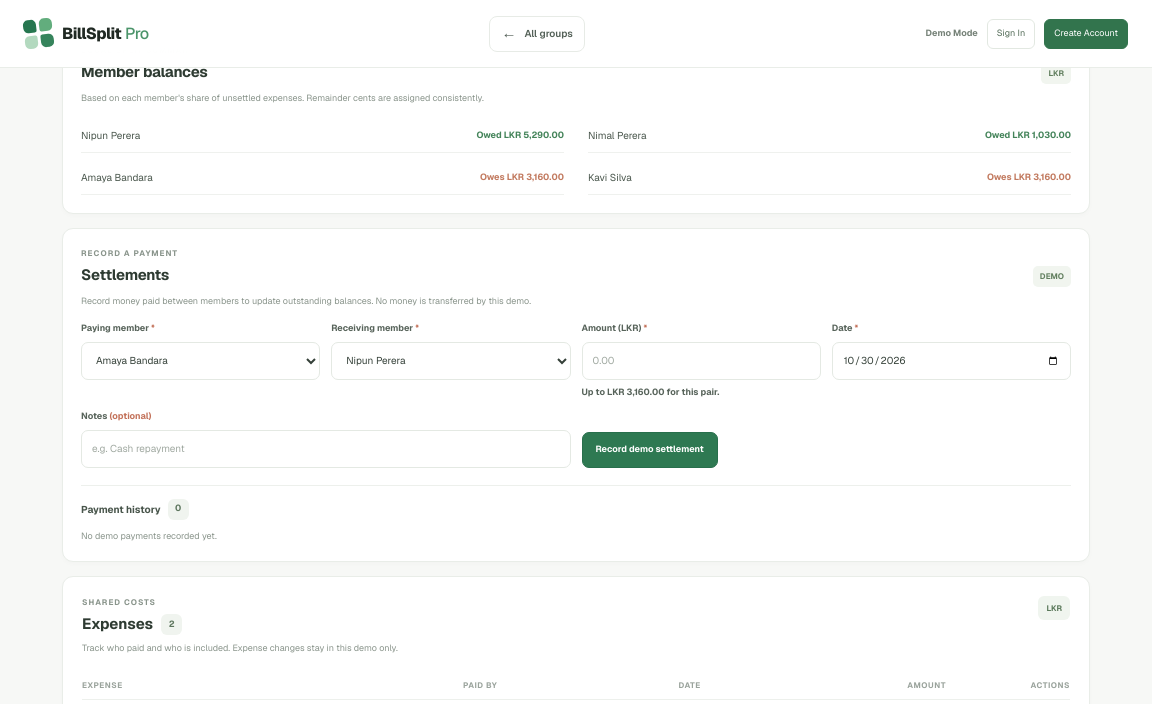
group management screens › allows undoing a settlement and recalculates group balances
(page scrolled)
Type "100.00" into the field labelled "Amount (LKR) * Up to LKR 3,160.00 for this pair." at (701, 360), box [582,342,821,380]
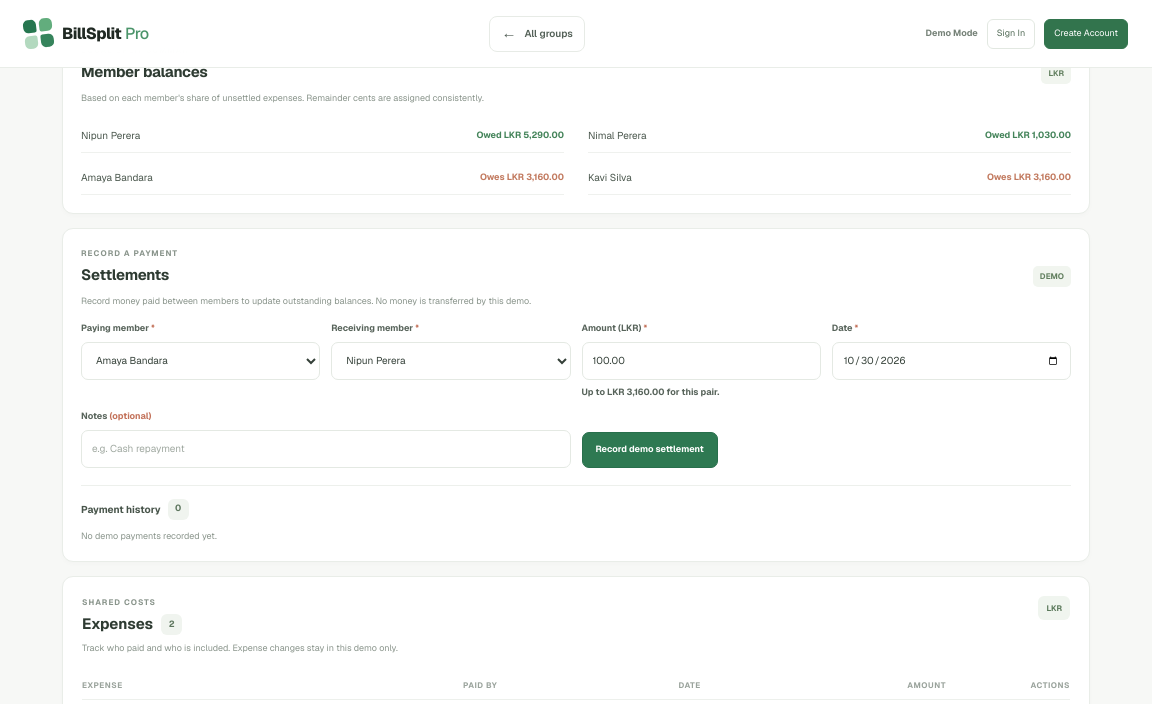
Click the button "Record demo settlement" at (650, 450), box [582,432,718,468]
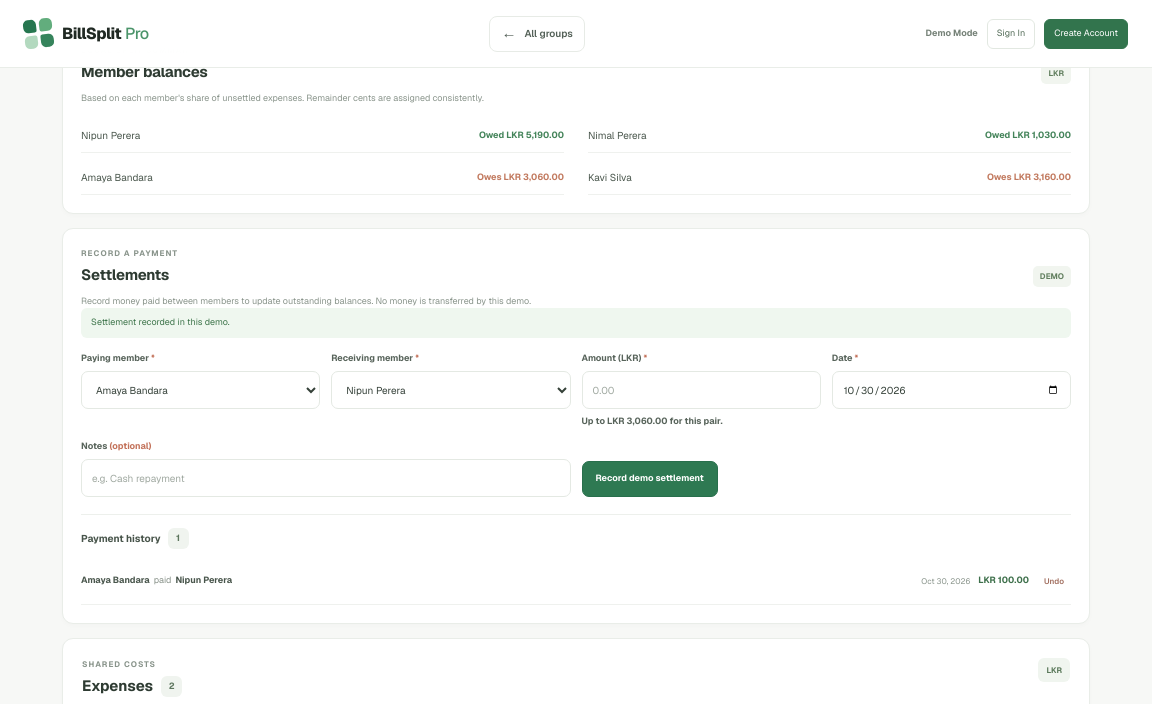
Check: the button with aria-label "Remove settlement of LKR 100.00" is shown
Click the button with aria-label "Remove settlement of LKR 100.00" at (1054, 580), box [1037,566,1071,595]
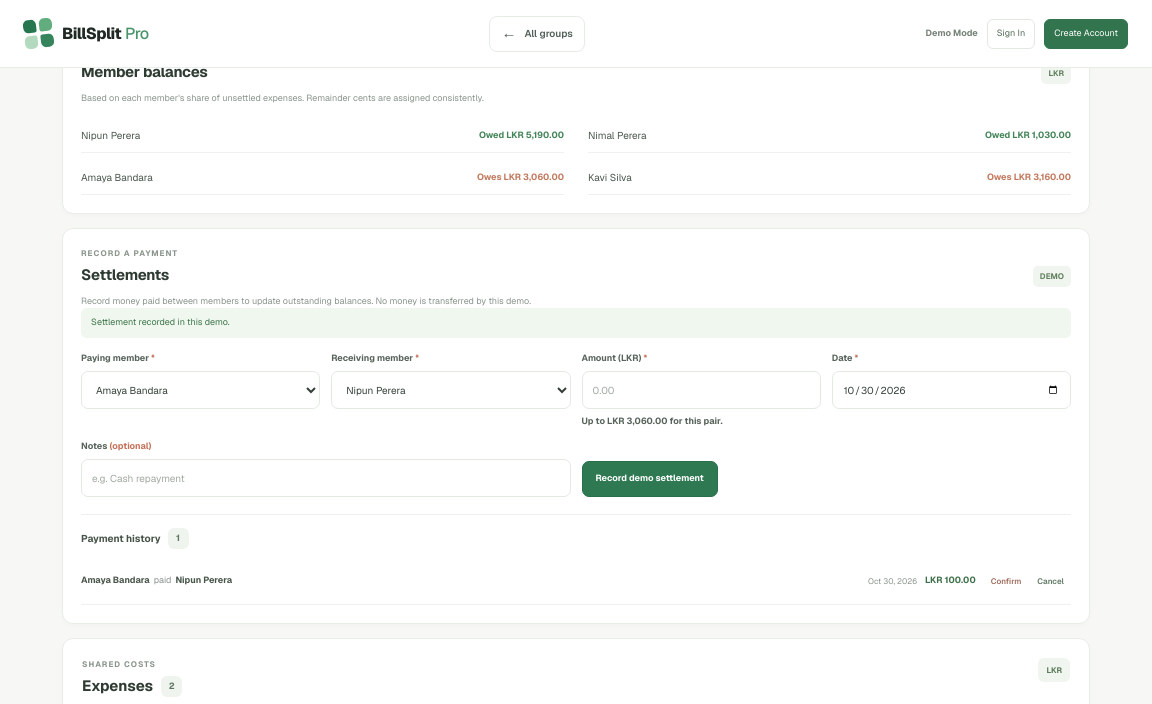
Click the button "Confirm" at (1006, 580), box [984,566,1028,595]
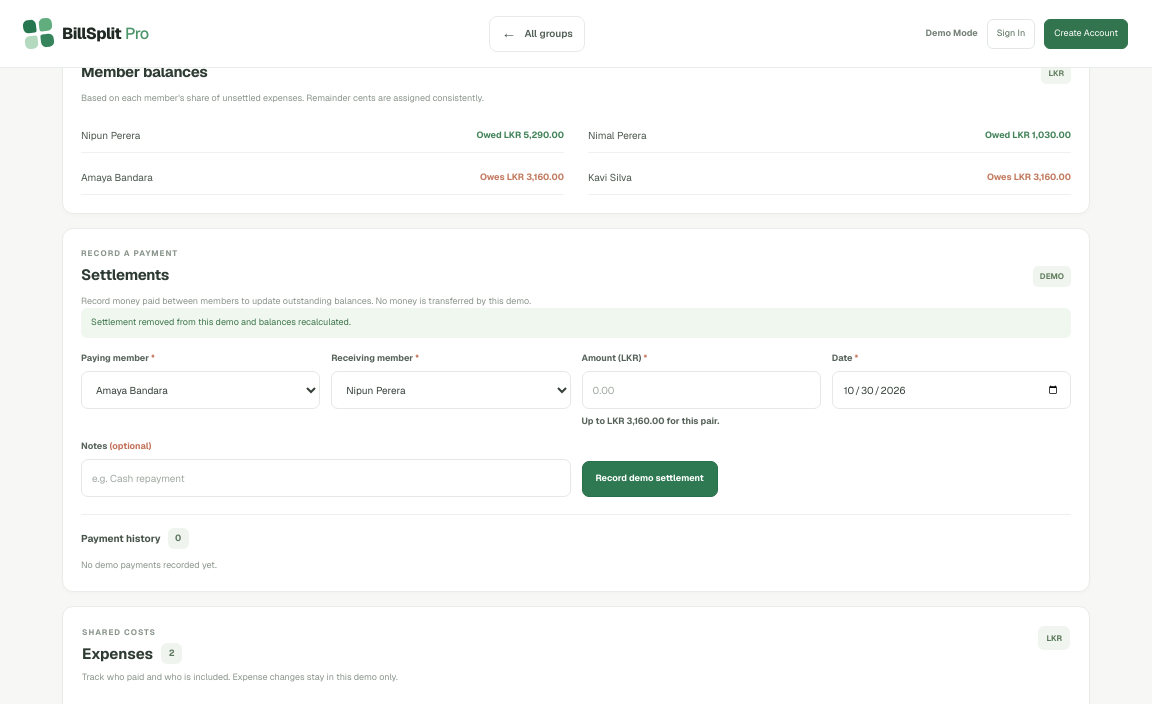
Check: the text "Settlement removed from this demo and balances recalculated." is shown, box [81,308,1071,338]
Check: the text "Owed LKR 5,290.00" is shown, box [476,129,564,142]
Check: the text "No demo payments recorded yet." is shown, box [81,559,217,571]
